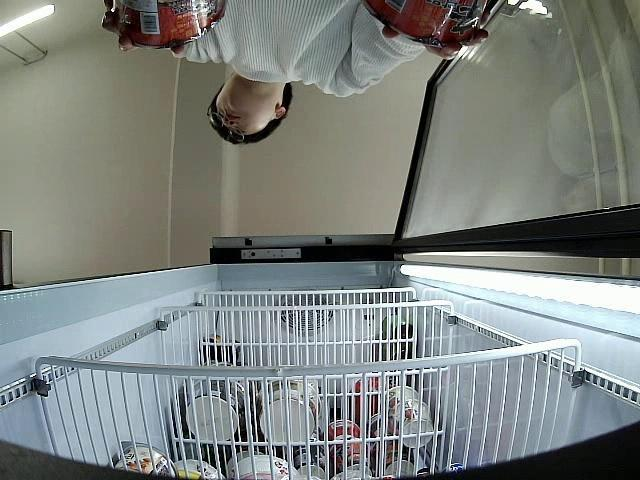01_ShinRamen_L: (359, 0, 486, 46), (98, 0, 226, 45)
